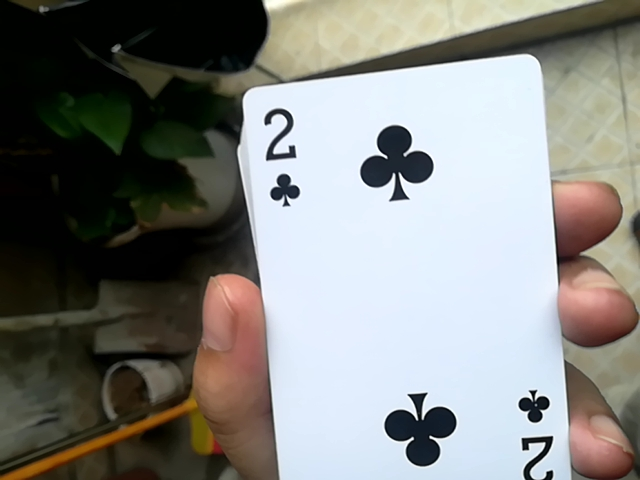mh 2: (225, 56, 557, 480)
